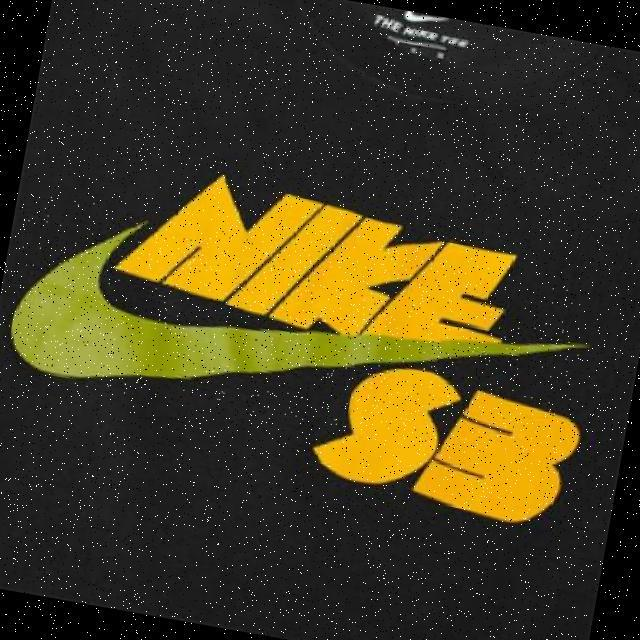Nike: (0, 192, 593, 470)
